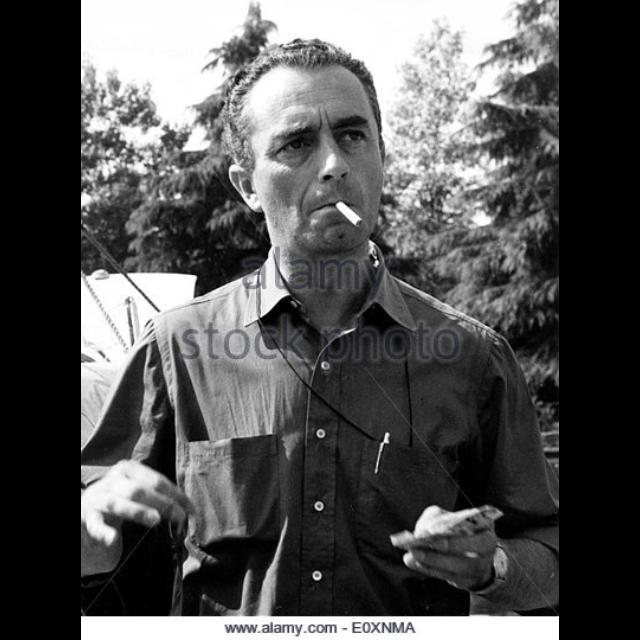rokok: (336, 198, 370, 228)
